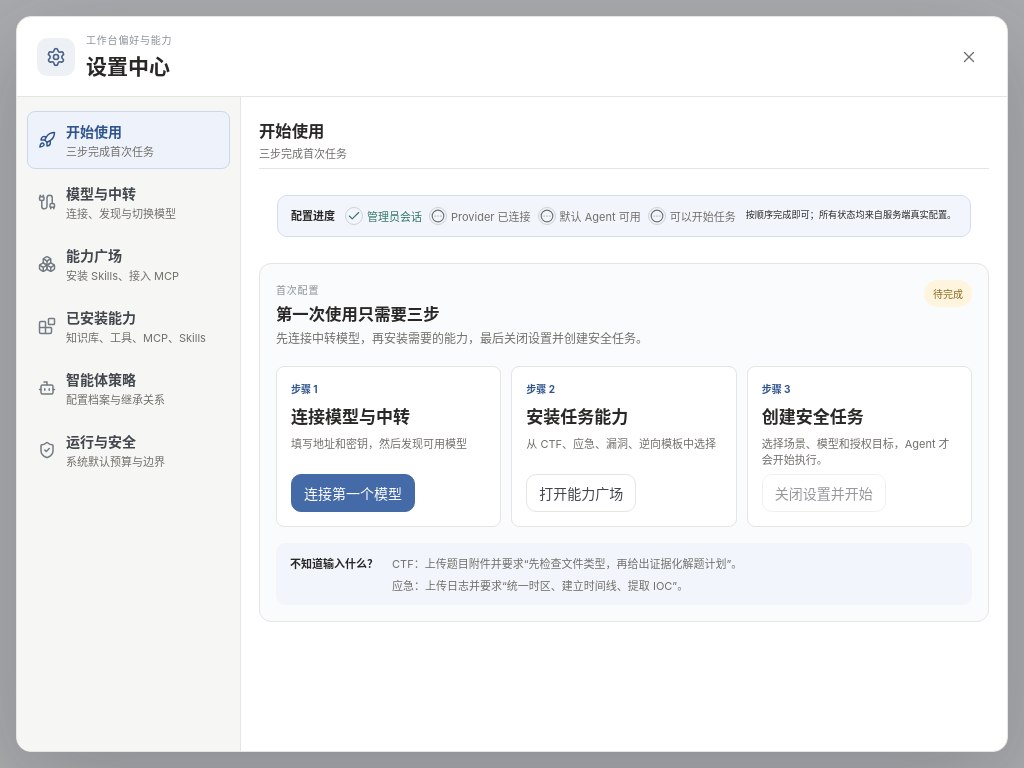
it: SettingsCenter › 不显示管理员令牌输入，也不会提交令牌
Step 1. Click the button "模型与中转 连接、发现与切换模型" → (128,202), box [27,173,230,231]
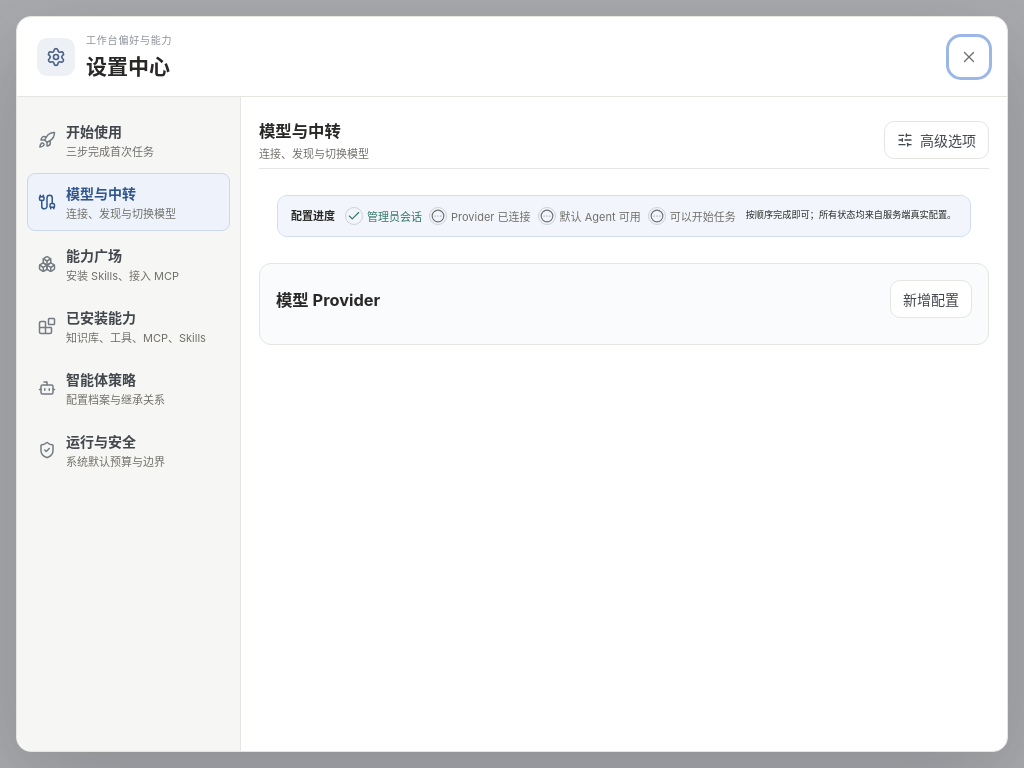
Now the heading "模型 Provider" is shown, box [276,287,380,311]
